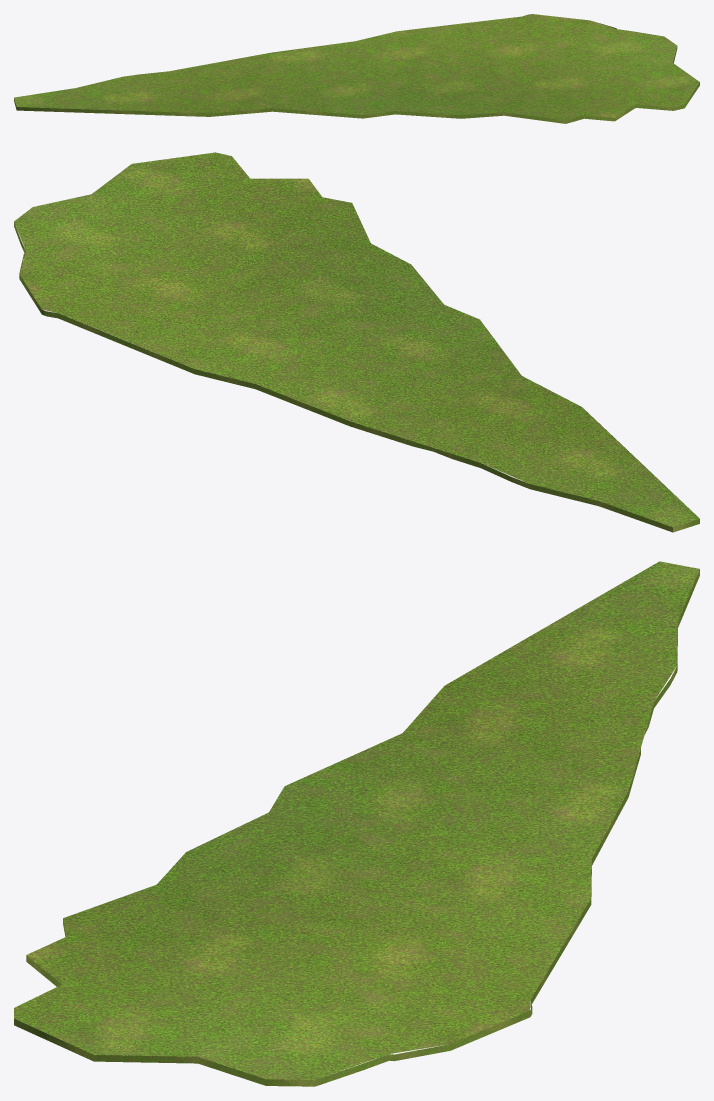
The model's file is lawn_04.glb.
The picture shows the model from 3 angles, top to bottom: view 1: azimuth 30°, elevation 25°; view 2: azimuth 150°, elevation 25°; view 3: azimuth 270°, elevation 25°; orthographic projection. The views are drawn at different scales.
Visible parts, largest first — view 1: lawn_04.surface, lawn_04.sides; view 2: lawn_04.surface, lawn_04.sides; view 3: lawn_04.surface, lawn_04.sides.
Part boxes in pixels (left/top/right/bottom): lawn_04.surface: left=14, top=14, right=699, bottom=120; lawn_04.sides: left=14, top=14, right=699, bottom=123; lawn_04.surface: left=14, top=152, right=699, bottom=527; lawn_04.sides: left=14, top=222, right=699, bottom=532; lawn_04.surface: left=14, top=561, right=699, bottom=1079; lawn_04.sides: left=14, top=569, right=699, bottom=1086.
Size of the model in its own units: 10 by 0.1477 by 5.58.
Materials: 1 (1 with a texture image).
